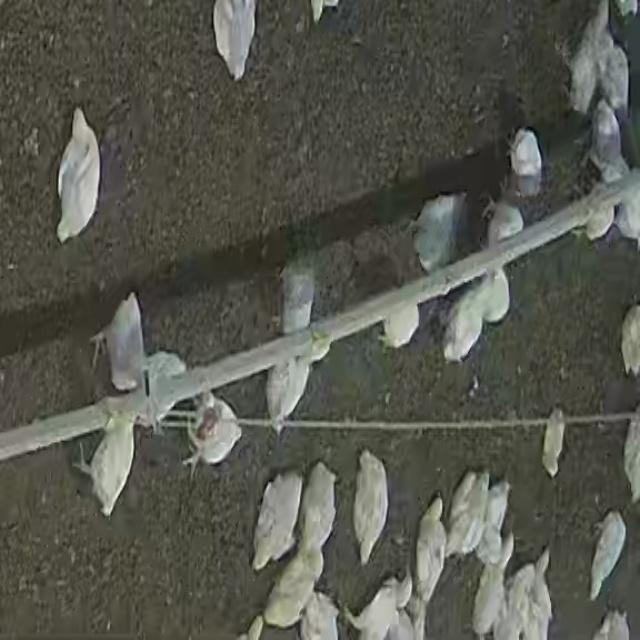chicken: (70, 414, 136, 515), (54, 108, 104, 240), (95, 284, 145, 382), (410, 192, 464, 274), (298, 462, 338, 564), (265, 551, 322, 621), (471, 535, 513, 625), (259, 470, 299, 564), (414, 491, 448, 600), (360, 443, 390, 562), (212, 0, 256, 80), (266, 267, 315, 333), (588, 100, 627, 180), (270, 356, 312, 428), (450, 466, 482, 560), (443, 295, 482, 363), (506, 127, 543, 198), (593, 506, 623, 592), (481, 479, 511, 563), (498, 560, 530, 635), (525, 550, 549, 640), (480, 262, 509, 320)
